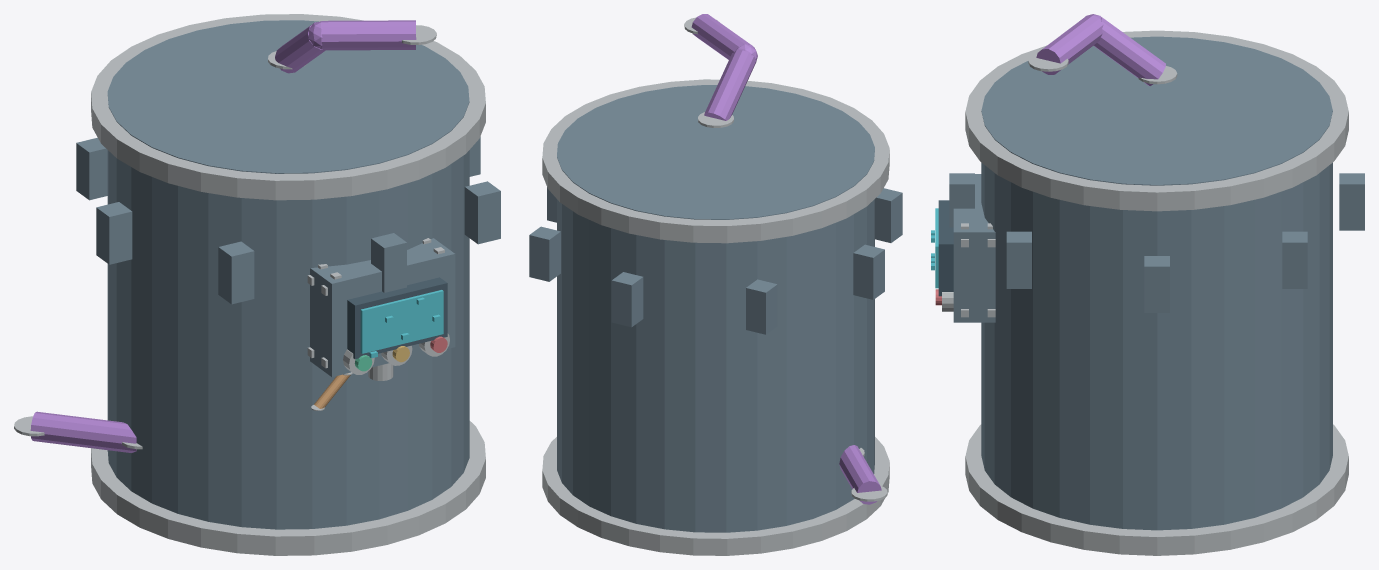
File: 34_L77_BarrierProcessFluidReservoir.glb
The picture shows the model from 3 angles, left to right: view 1: azimuth 30°, elevation 25°; view 2: azimuth 150°, elevation 25°; view 3: azimuth 270°, elevation 25°; orthographic projection. The views are drawn at different scales.
Parts seen in each view (by area): view 1: BarrierProcessFluidReservoir_Node_0000, BarrierProcessFluidReservoir_Node_0004, BarrierProcessFluidReservoir_Node_0003, BarrierProcessFluidReservoir_Node_0021, BarrierProcessFluidReservoir_Node_0031, BarrierProcessFluidReservoir_Node_0018, BarrierProcessFluidReservoir_Node_0014, BarrierProcessFluidReservoir_Node_0030, BarrierProcessFluidReservoir_Node_0006, BarrierProcessFluidReservoir_Node_0008, BarrierProcessFluidReservoir_Node_0009, BarrierProcessFluidReservoir_Node_0010 (+2 smaller); view 2: BarrierProcessFluidReservoir_Node_0000, BarrierProcessFluidReservoir_Node_0004, BarrierProcessFluidReservoir_Node_0003, BarrierProcessFluidReservoir_Node_0013, BarrierProcessFluidReservoir_Node_0011, BarrierProcessFluidReservoir_Node_0010, BarrierProcessFluidReservoir_Node_0009, BarrierProcessFluidReservoir_Node_0012, BarrierProcessFluidReservoir_Node_0008, BarrierProcessFluidReservoir_Node_0014, BarrierProcessFluidReservoir_Node_0018; view 3: BarrierProcessFluidReservoir_Node_0000, BarrierProcessFluidReservoir_Node_0004, BarrierProcessFluidReservoir_Node_0003, BarrierProcessFluidReservoir_Node_0021, BarrierProcessFluidReservoir_Node_0013, BarrierProcessFluidReservoir_Node_0014, BarrierProcessFluidReservoir_Node_0011, BarrierProcessFluidReservoir_Node_0012, BarrierProcessFluidReservoir_Node_0006, BarrierProcessFluidReservoir_Node_0005, BarrierProcessFluidReservoir_Node_0030, BarrierProcessFluidReservoir_Node_0007.
Boxes of the visible parts, x1,y1,x2,y2 form: BarrierProcessFluidReservoir_Node_0000: (107,20,469,529); BarrierProcessFluidReservoir_Node_0004: (91,14,485,200); BarrierProcessFluidReservoir_Node_0003: (91,421,485,555); BarrierProcessFluidReservoir_Node_0021: (310,238,455,376); BarrierProcessFluidReservoir_Node_0031: (360,290,443,353); BarrierProcessFluidReservoir_Node_0018: (30,411,136,452); BarrierProcessFluidReservoir_Node_0014: (321,20,416,50); BarrierProcessFluidReservoir_Node_0030: (347,277,447,359); BarrierProcessFluidReservoir_Node_0006: (464,181,500,244); BarrierProcessFluidReservoir_Node_0008: (218,241,254,304); BarrierProcessFluidReservoir_Node_0009: (96,202,132,264); BarrierProcessFluidReservoir_Node_0010: (76,137,107,200); BarrierProcessFluidReservoir_Node_0000: (557,85,874,532); BarrierProcessFluidReservoir_Node_0004: (542,79,889,243); BarrierProcessFluidReservoir_Node_0003: (542,437,889,555); BarrierProcessFluidReservoir_Node_0013: (704,49,756,120); BarrierProcessFluidReservoir_Node_0011: (611,272,643,327); BarrierProcessFluidReservoir_Node_0010: (746,279,777,334); BarrierProcessFluidReservoir_Node_0009: (853,244,884,299); BarrierProcessFluidReservoir_Node_0012: (529,226,560,281); BarrierProcessFluidReservoir_Node_0008: (875,188,902,242); BarrierProcessFluidReservoir_Node_0014: (691,14,754,59); BarrierProcessFluidReservoir_Node_0018: (839,445,881,504); BarrierProcessFluidReservoir_Node_0000: (981,36,1332,530); BarrierProcessFluidReservoir_Node_0004: (965,30,1348,211); BarrierProcessFluidReservoir_Node_0003: (965,424,1348,555); BarrierProcessFluidReservoir_Node_0021: (953,174,995,322); BarrierProcessFluidReservoir_Node_0013: (1093,17,1165,85); BarrierProcessFluidReservoir_Node_0014: (1036,15,1103,74); BarrierProcessFluidReservoir_Node_0011: (1339,173,1364,230); BarrierProcessFluidReservoir_Node_0012: (1282,231,1307,288); BarrierProcessFluidReservoir_Node_0006: (1006,231,1031,288); BarrierProcessFluidReservoir_Node_0005: (1144,256,1169,312); BarrierProcessFluidReservoir_Node_0030: (938,200,953,296); BarrierProcessFluidReservoir_Node_0007: (949,173,974,227).
Size of the model in its own units: 1.46 by 1.59 by 1.36.
